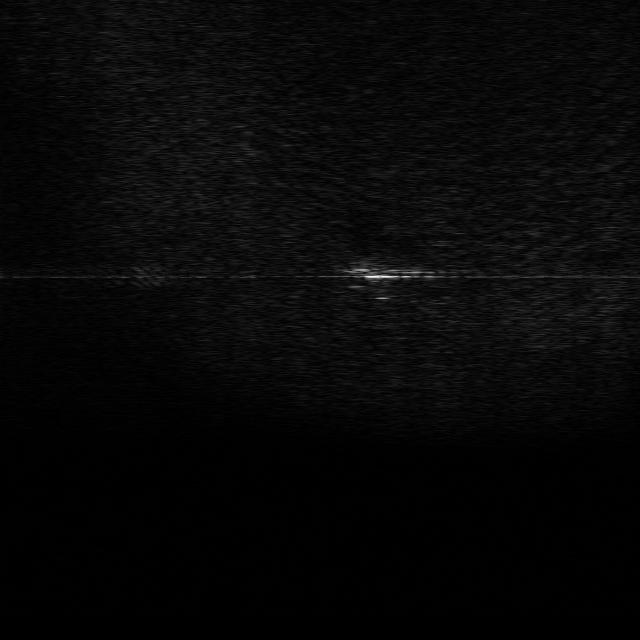plane: (344, 260, 435, 287)
